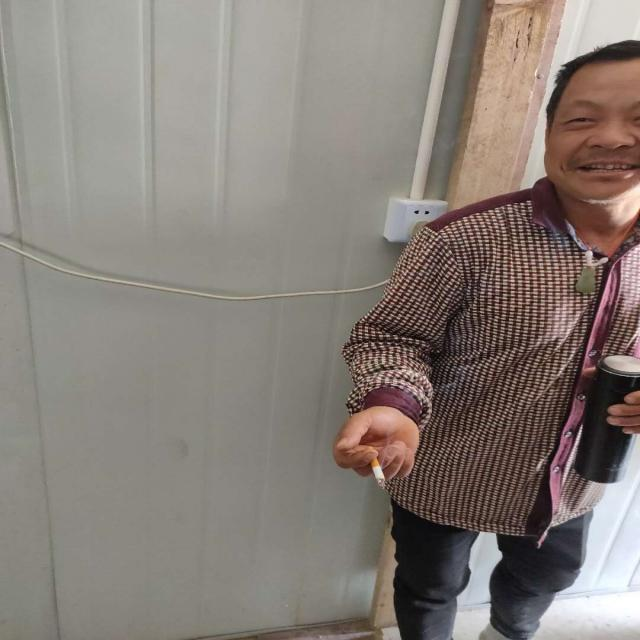cigarette: (370, 454, 390, 489)
